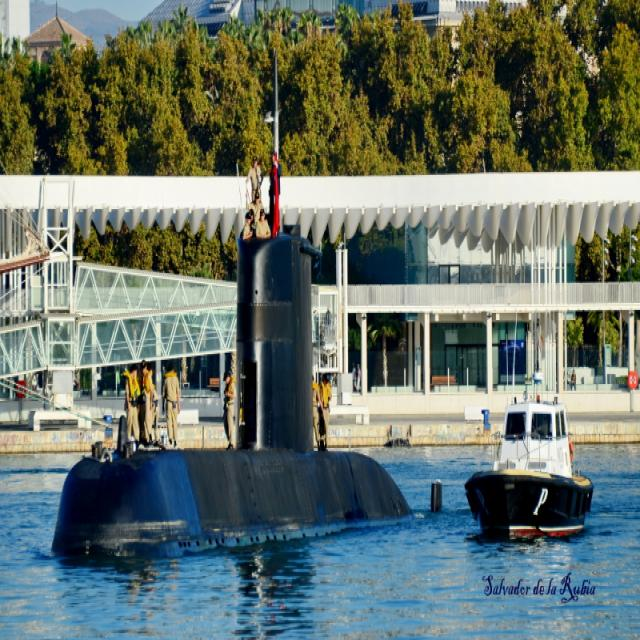submarine: (51, 213, 427, 570)
